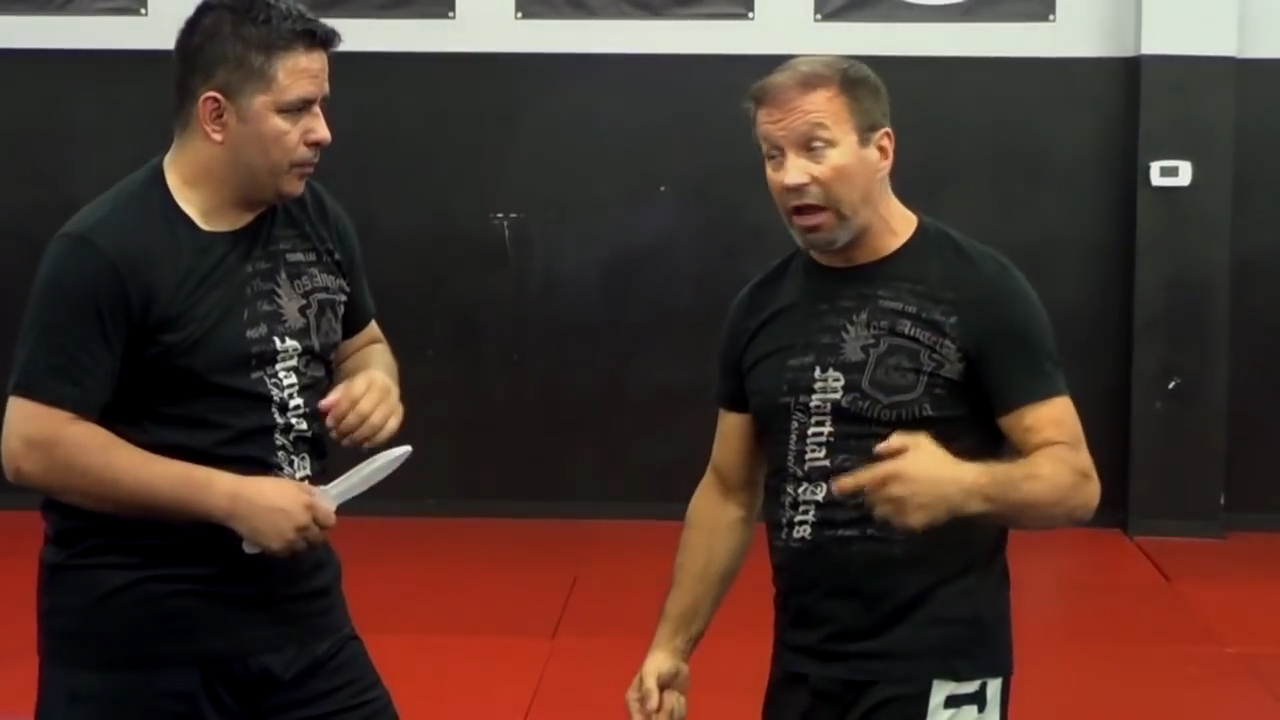knife: (235, 435, 422, 565)
